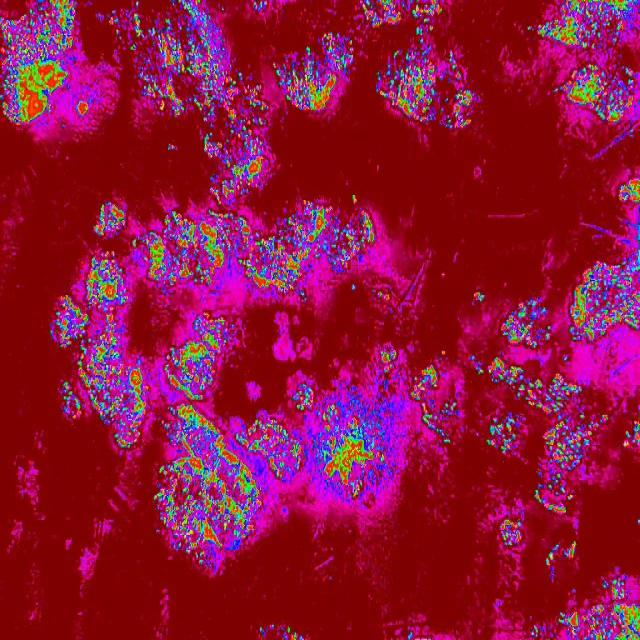fire: (151, 406, 305, 570), (143, 196, 376, 304), (47, 248, 147, 452), (97, 0, 246, 111), (372, 23, 473, 128), (0, 0, 76, 128), (531, 369, 590, 515), (175, 111, 274, 197), (308, 405, 396, 500), (272, 32, 358, 112), (162, 313, 238, 399), (570, 254, 640, 345), (551, 61, 640, 128), (536, 0, 640, 49), (404, 363, 460, 448), (554, 599, 640, 640), (502, 296, 554, 353), (468, 354, 530, 401), (360, 0, 446, 25), (485, 410, 525, 456), (90, 203, 124, 235), (256, 620, 308, 640), (499, 514, 525, 550), (545, 539, 578, 565), (617, 175, 640, 211), (246, 75, 268, 111), (600, 569, 628, 596), (378, 344, 398, 378), (624, 410, 640, 446), (589, 406, 608, 434), (292, 384, 316, 404), (76, 98, 90, 123), (528, 624, 544, 640), (471, 290, 488, 304), (252, 0, 268, 14), (377, 290, 393, 304), (406, 630, 427, 640), (130, 236, 144, 247), (438, 346, 448, 360), (165, 140, 174, 152), (560, 354, 570, 364), (524, 25, 536, 33), (634, 518, 640, 527)
